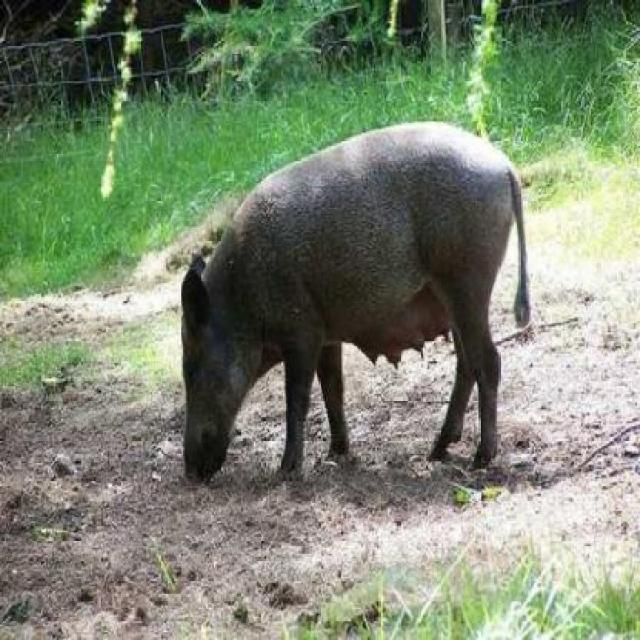pig: (154, 86, 598, 509)
